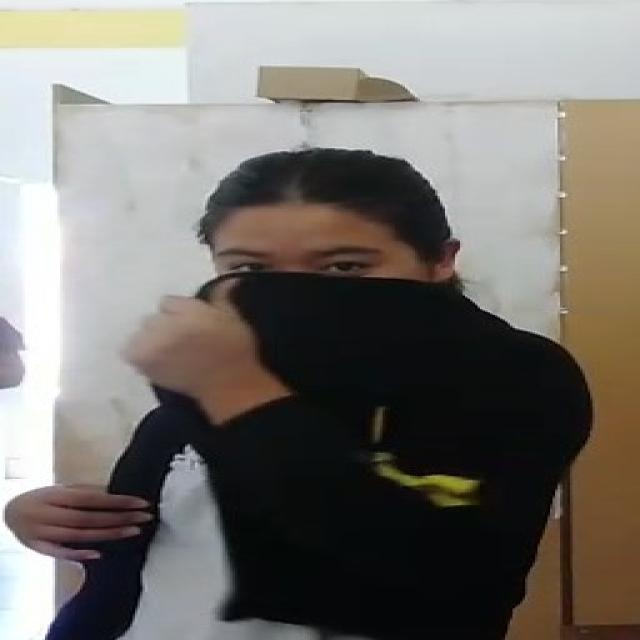8_ropa_rostro: (128, 269, 498, 422)
